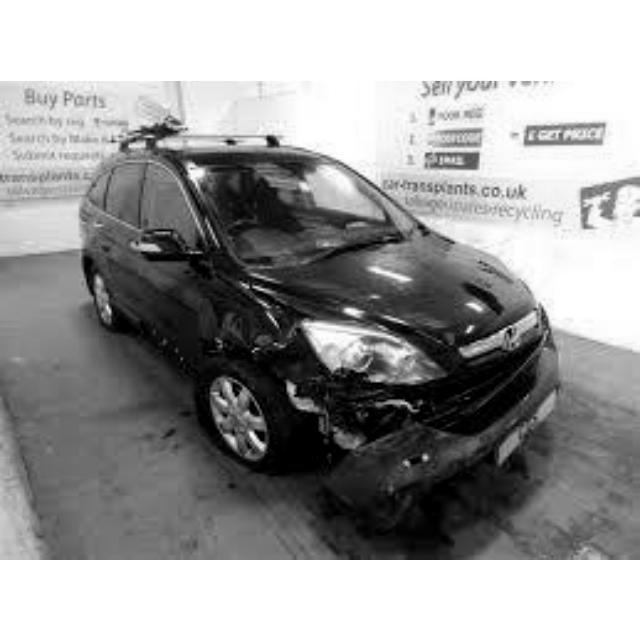bonnet-dent: (305, 234, 532, 337)
fender-dent: (218, 283, 299, 354)
front-bumper-dent: (332, 392, 556, 478)
